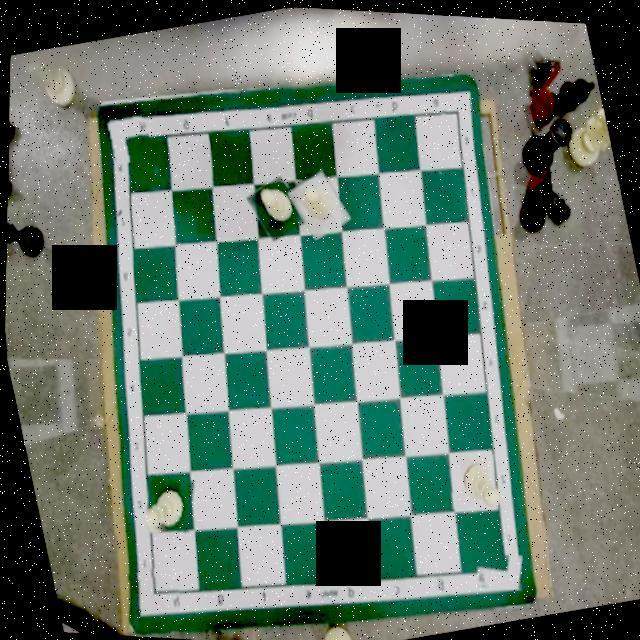chess-table-corners: (469, 542, 534, 596), (120, 564, 182, 618), (102, 110, 156, 167), (437, 89, 472, 131)
